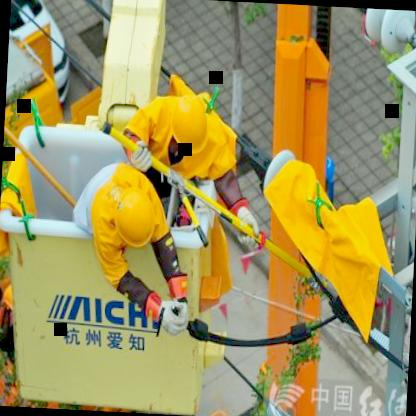helmet: (87, 158, 170, 256), (156, 82, 214, 163)
